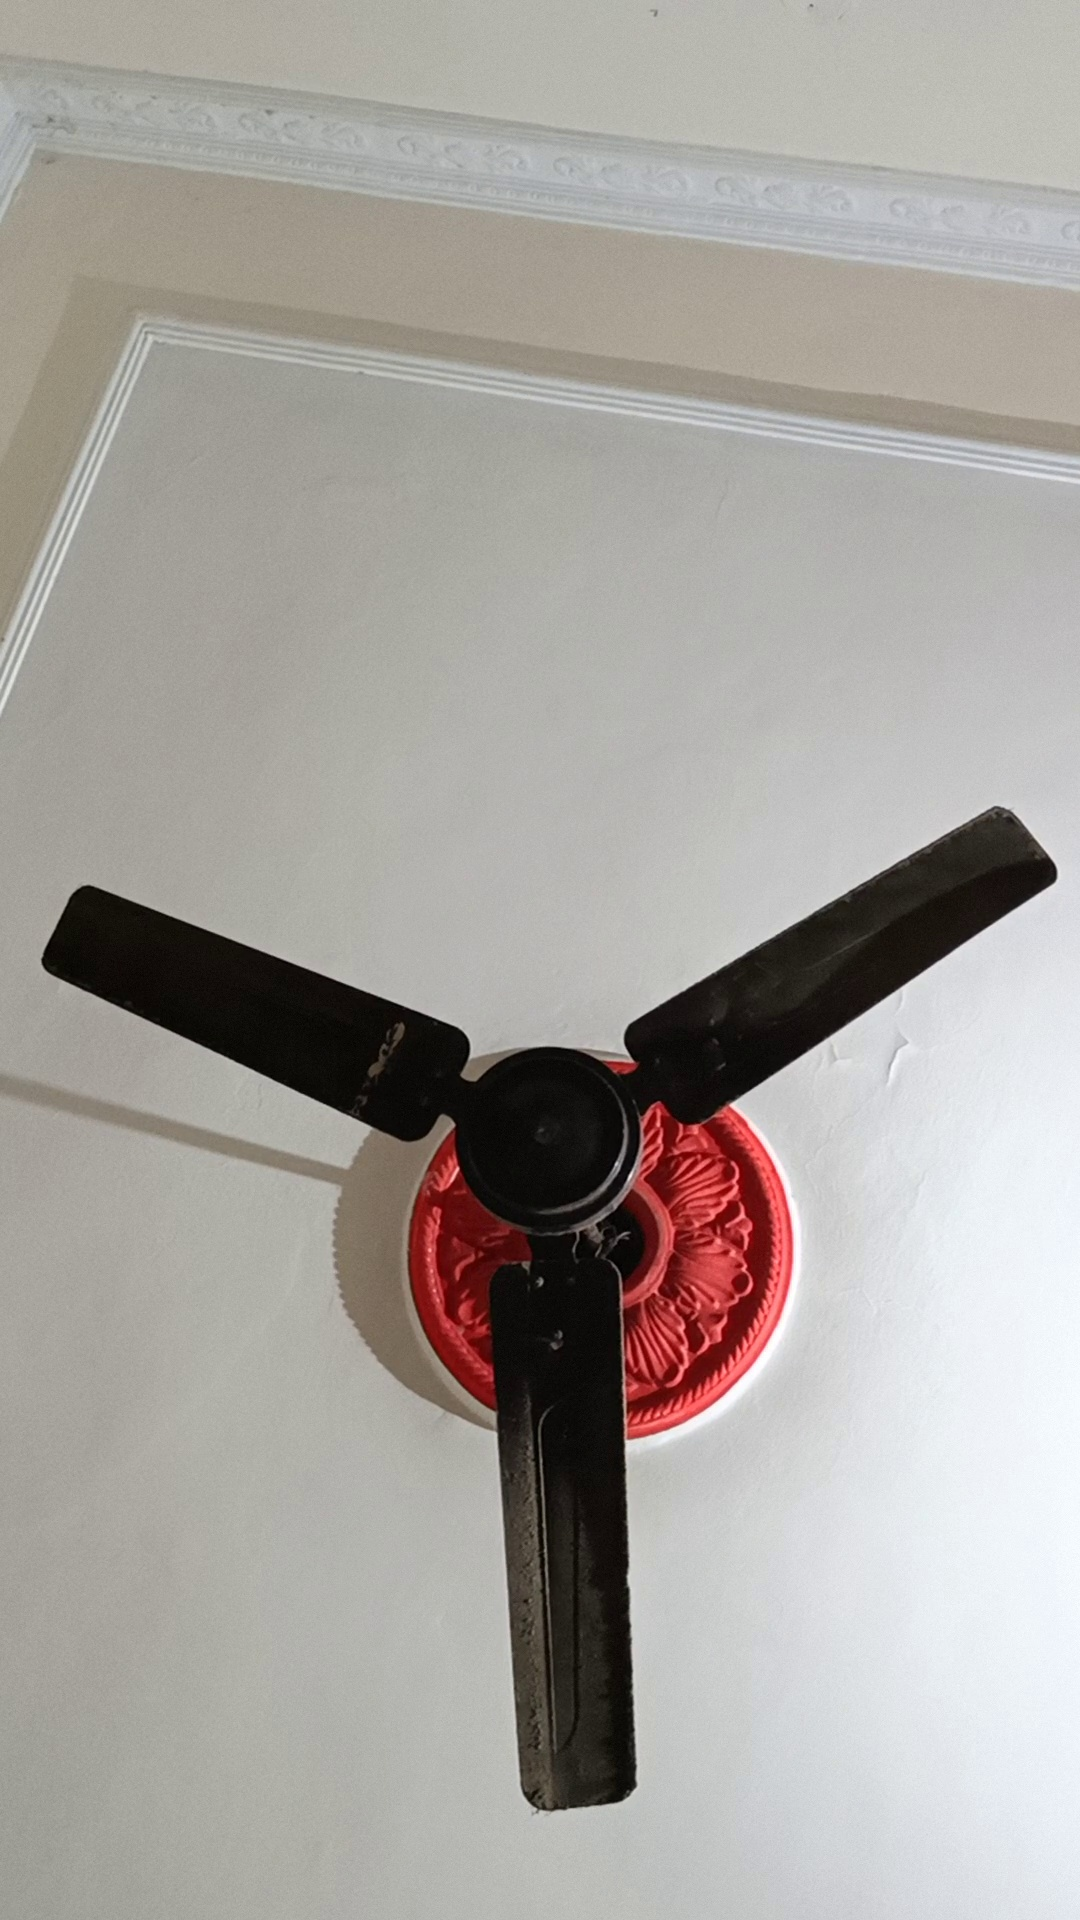fan: (34, 833, 824, 1844)
